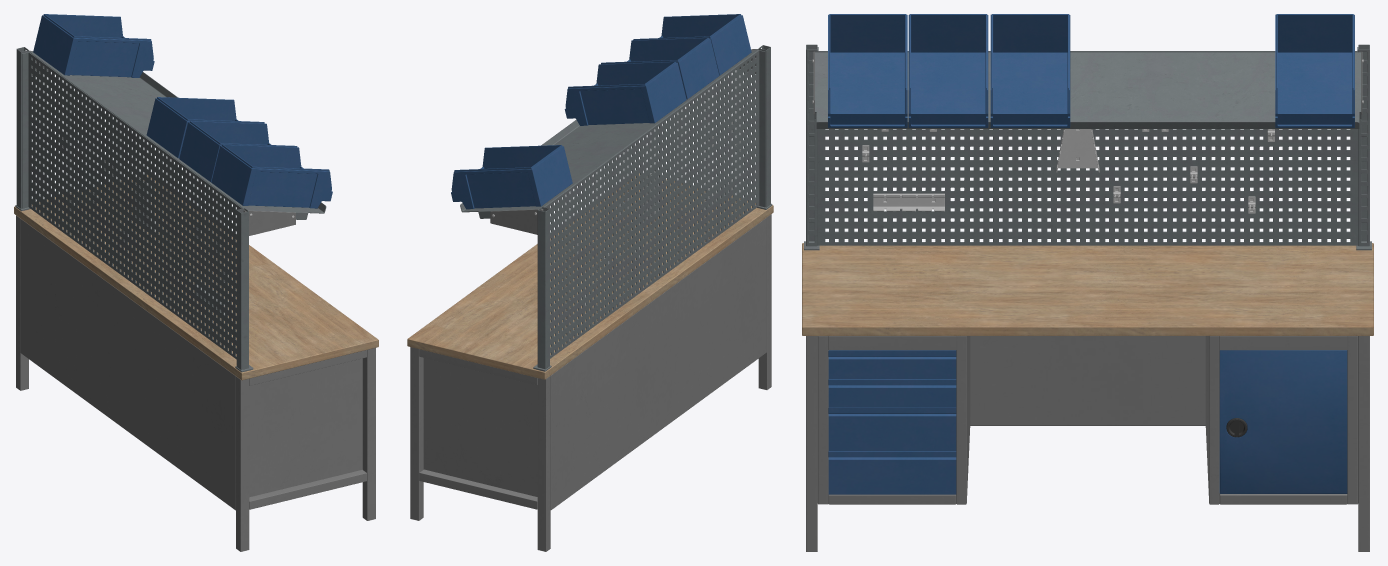
File: furniture_workbench_standard_e01.glb
3 views of the same model, side by side, from view 1: azimuth 30°, elevation 25°; view 2: azimuth 150°, elevation 25°; view 3: azimuth 270°, elevation 25° (orthographic). The views are drawn at different scales.
Visible parts, largest first — view 1: root; view 2: root; view 3: root.
Part boxes in pixels (x1,y1,x2,y2): root: [14, 14, 378, 551]; root: [407, 14, 773, 551]; root: [802, 14, 1373, 551].
Bounding box in the file's own units: 0.5331 × 1.38 × 1.53.
Materials: 6 (6 with a texture image).
